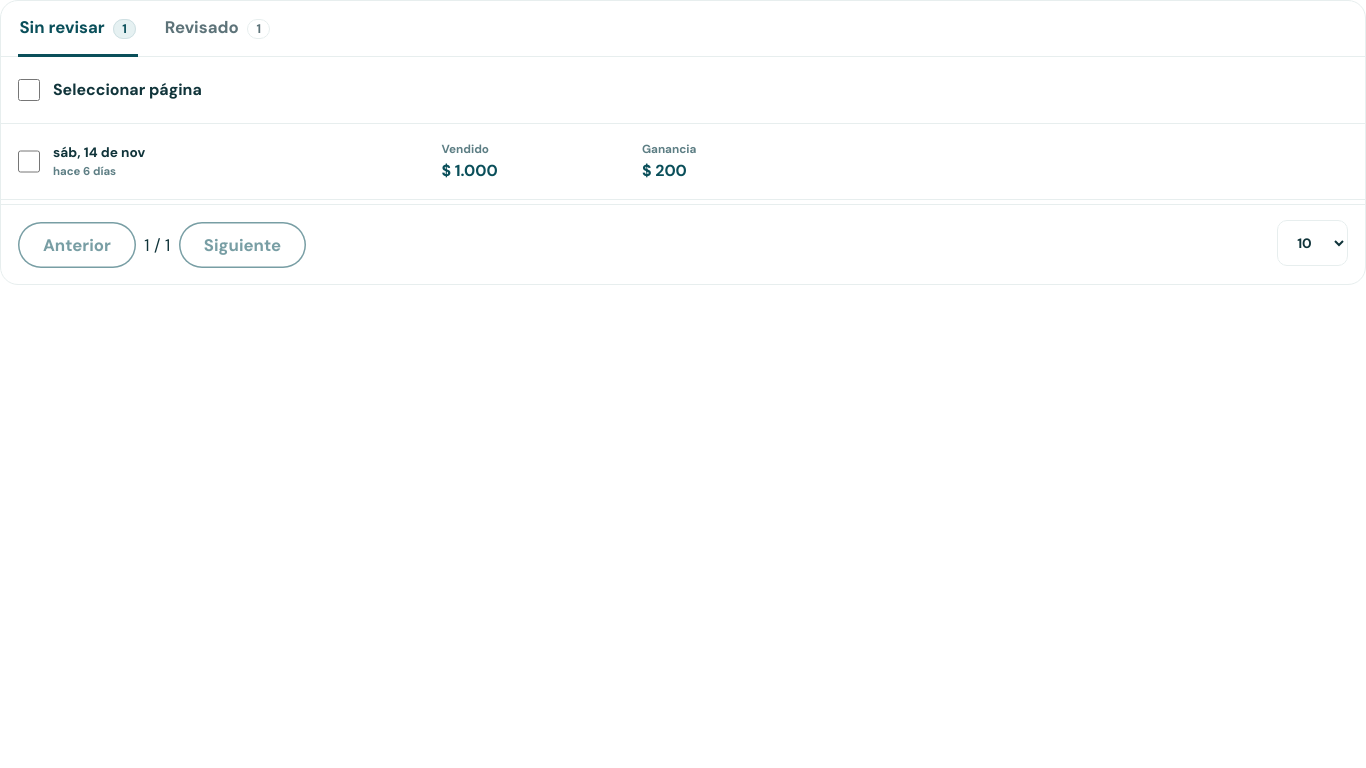
Scenario: retail review reports a day that was already reviewed
This screenshot has width=1366, height=768.
Expected: the text "Seleccionar página" is shown, 18,78 -> 202,101
Click the checkbox labelled "Seleccionar página" at (29, 90), box 18,79 -> 40,101
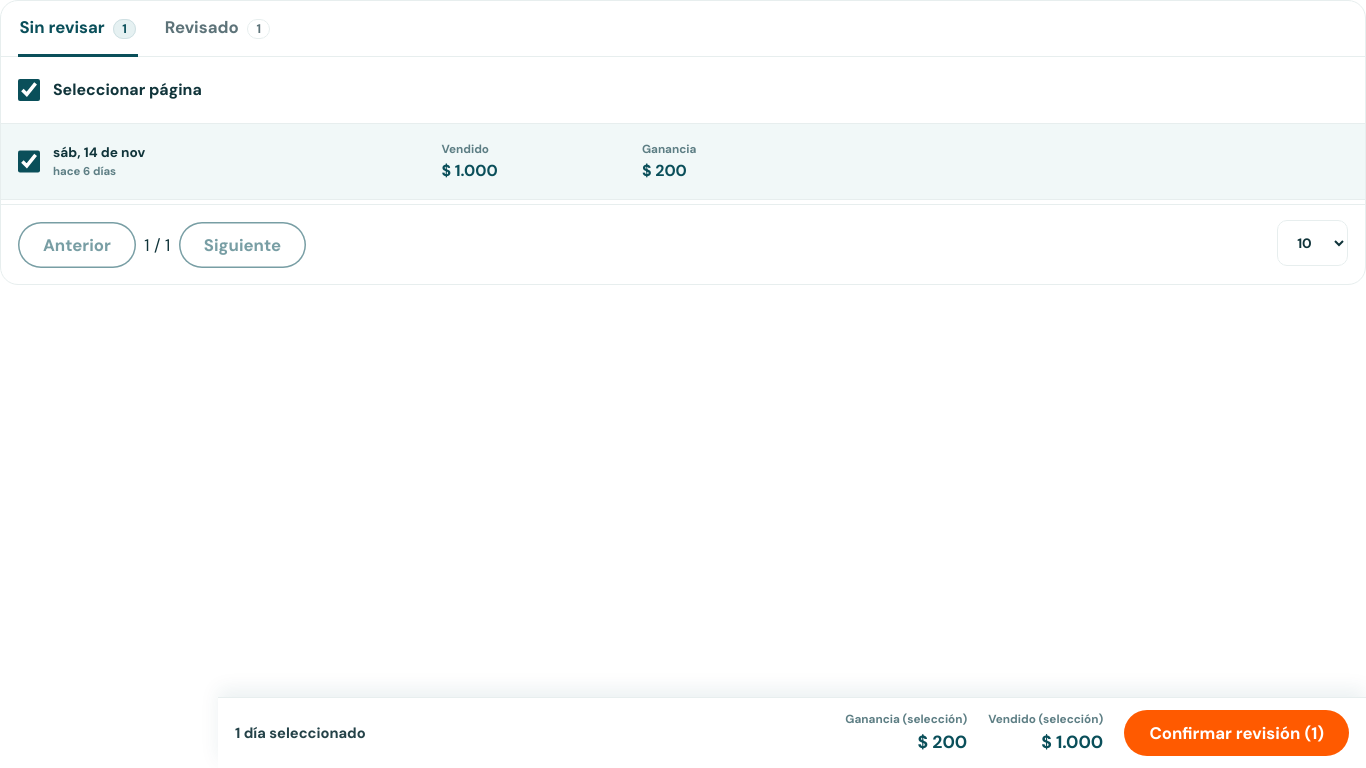
Click the button "Confirmar revisión (1)" at (1237, 733), box 1124,710 -> 1349,756
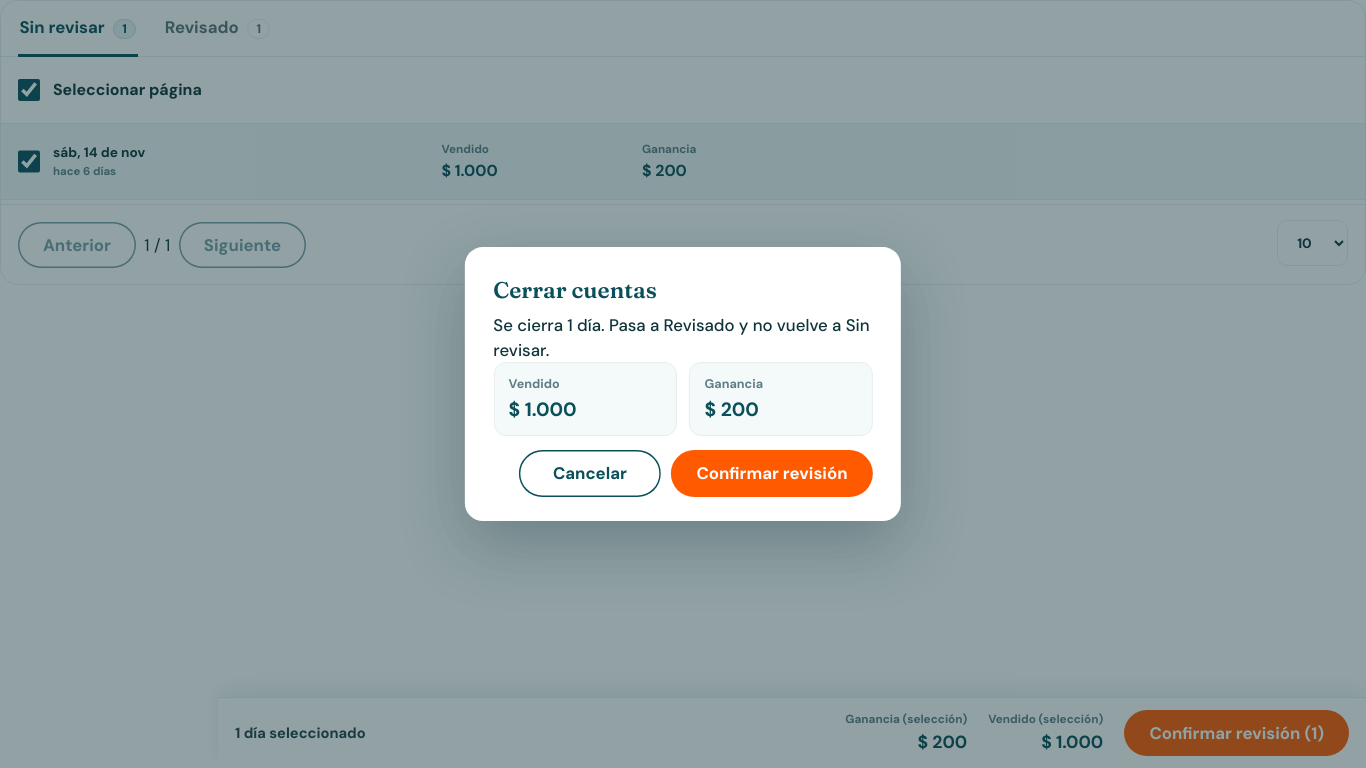
Click the button "Confirmar revisión" at (772, 474), box 671,450 -> 873,497
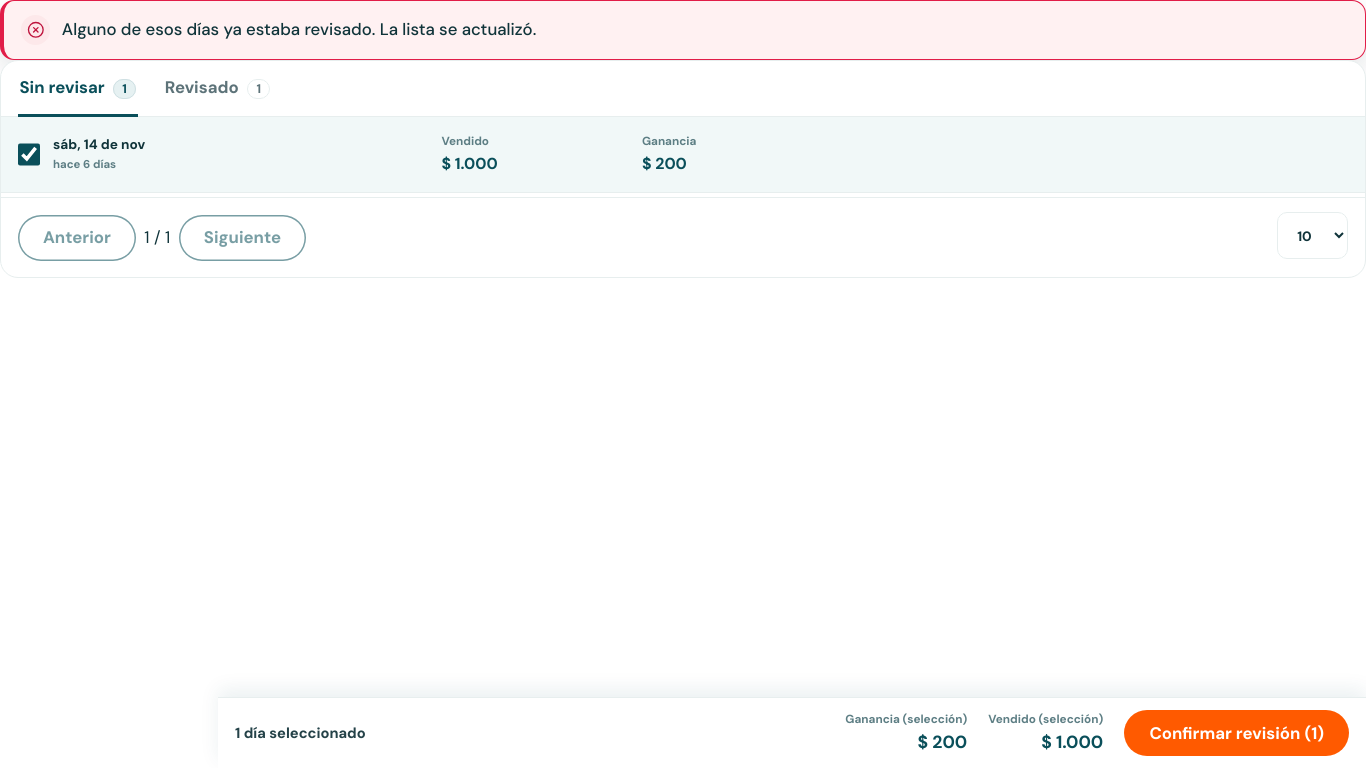
Now the text "ya estaba revisado" is shown, box 62,18 -> 536,40
